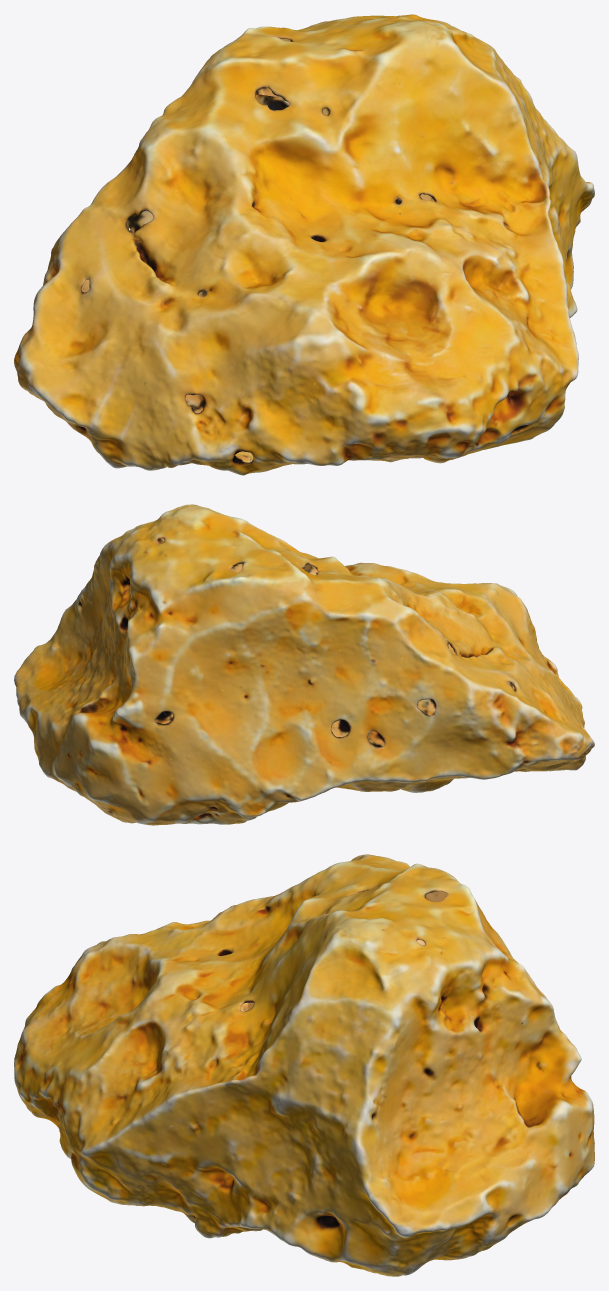
File: oro-v1.glb
The picture shows the model from 3 angles, top to bottom: view 1: azimuth 30°, elevation 25°; view 2: azimuth 150°, elevation 25°; view 3: azimuth 270°, elevation 25°; orthographic projection. The views are drawn at different scales.
Size of the model in its own units: 2 by 0.9841 by 1.71.
1 material, 1 textured.
